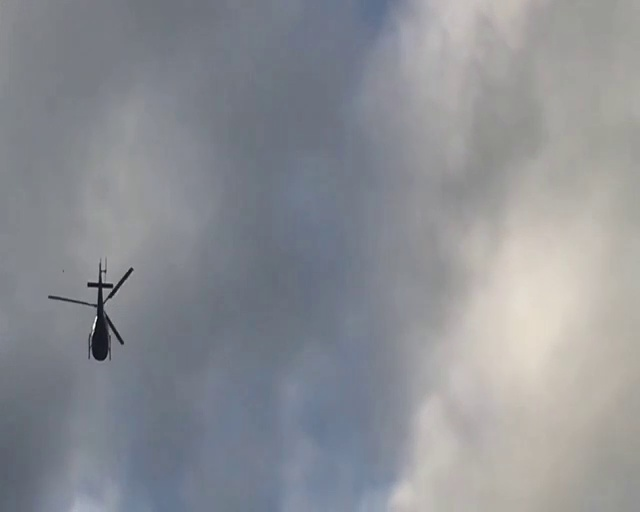HELICOPTER: (47, 256, 131, 361)
